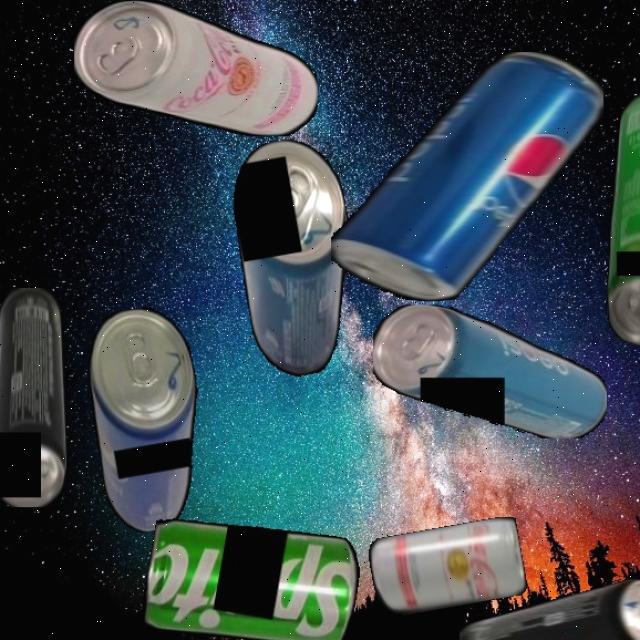debris: (330, 52, 603, 301), (222, 132, 373, 382), (76, 301, 220, 537), (74, 0, 318, 136), (373, 304, 607, 438), (138, 506, 366, 640), (367, 515, 528, 619), (0, 286, 66, 507), (458, 579, 640, 640), (604, 91, 640, 345)
